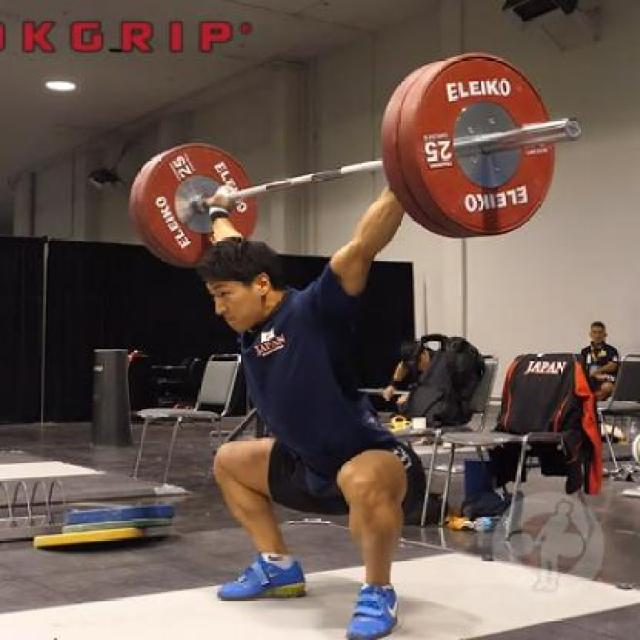Barbell: (562, 111, 584, 144)
